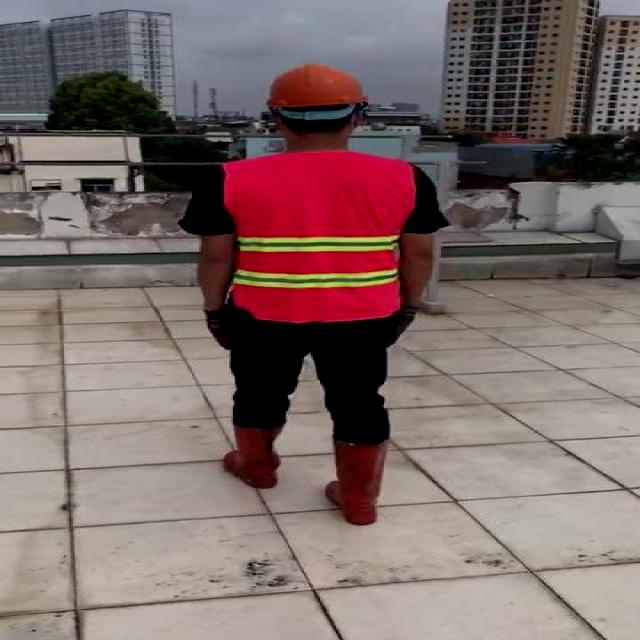boots: (327, 438, 389, 527), (224, 419, 288, 489)
hand_glove: (383, 299, 421, 346), (202, 306, 241, 349)
head_helmet: (266, 61, 370, 114)
person: (178, 62, 446, 533)
vest: (230, 153, 414, 321)
